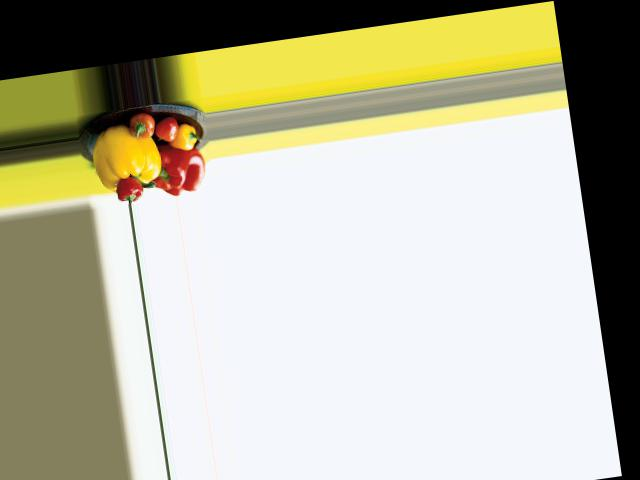bell_pepper: (170, 123, 201, 152)
